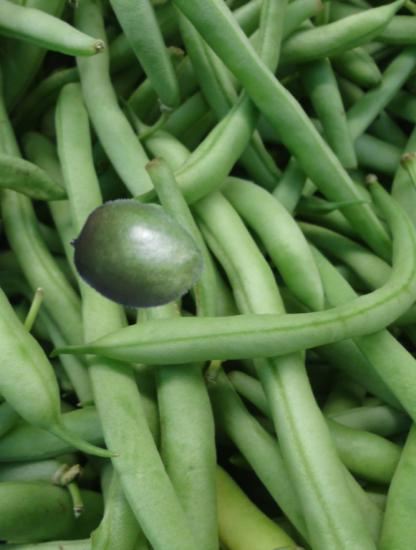Mango: (71, 191, 203, 323)
